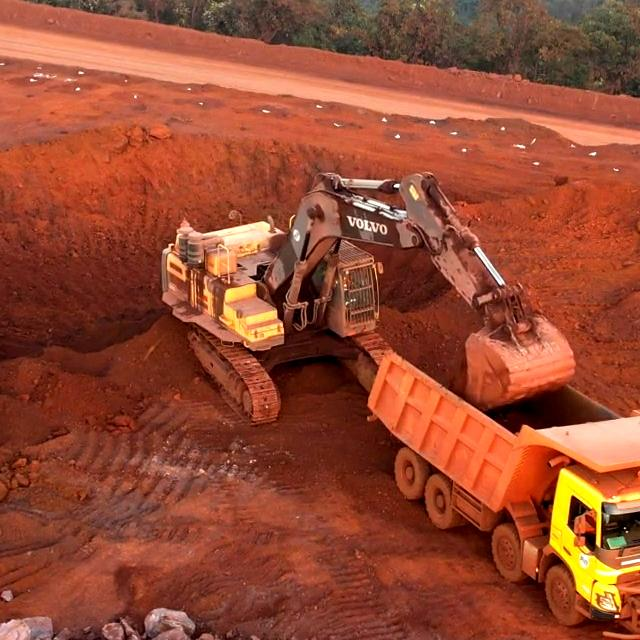Dumper truck: (496, 422, 640, 573)
Excavator: (164, 212, 367, 367)
